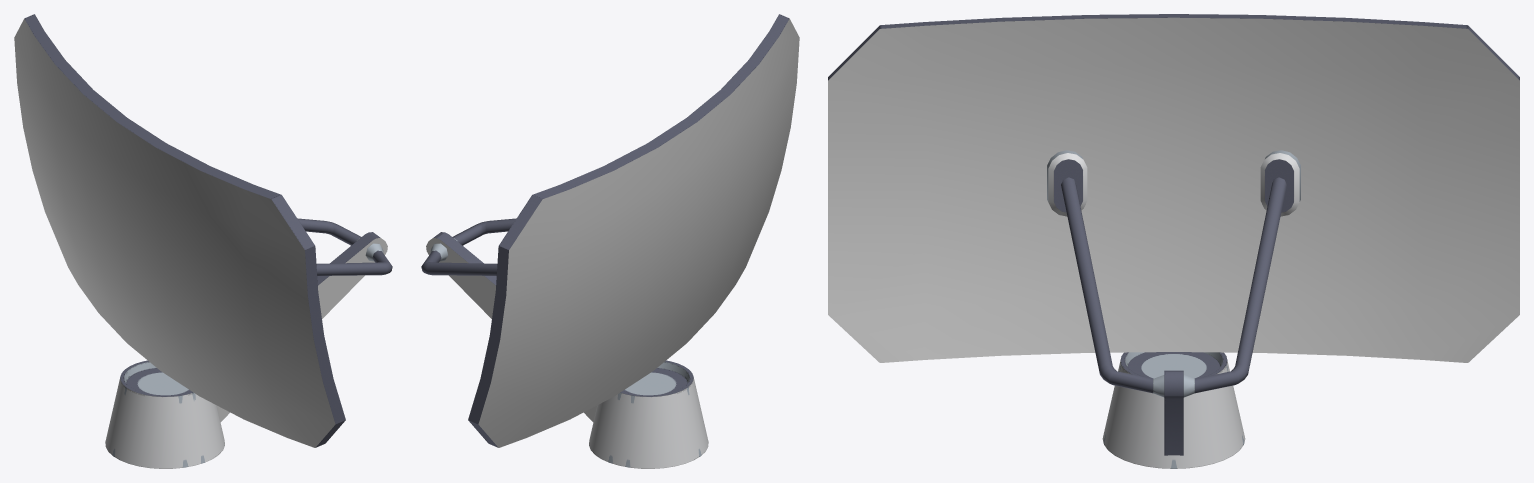
File: Radar_Base_01.FBX
The picture shows the model from 3 angles, left to right: view 1: azimuth 30°, elevation 25°; view 2: azimuth 150°, elevation 25°; view 3: azimuth 270°, elevation 25°; orthographic projection. The views are drawn at different scales.
Parts seen in each view (by area): view 1: Radar_Base_01; view 2: Radar_Base_01; view 3: Radar_Base_01.
Boxes of the visible parts, x1,y1,x2,y2 form: Radar_Base_01: (14, 14, 392, 468); Radar_Base_01: (421, 14, 799, 468); Radar_Base_01: (828, 14, 1519, 468).
Size of the model in its own units: 3.66 by 4.4 by 6.8.
